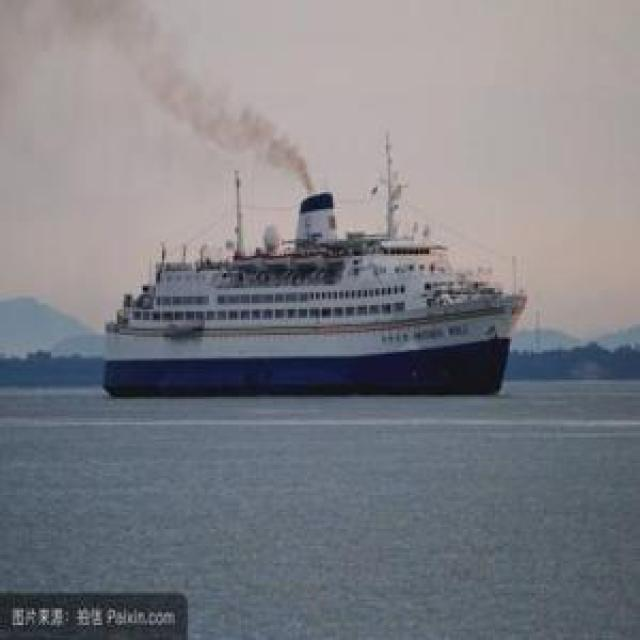passenger ship: (96, 189, 512, 395)
